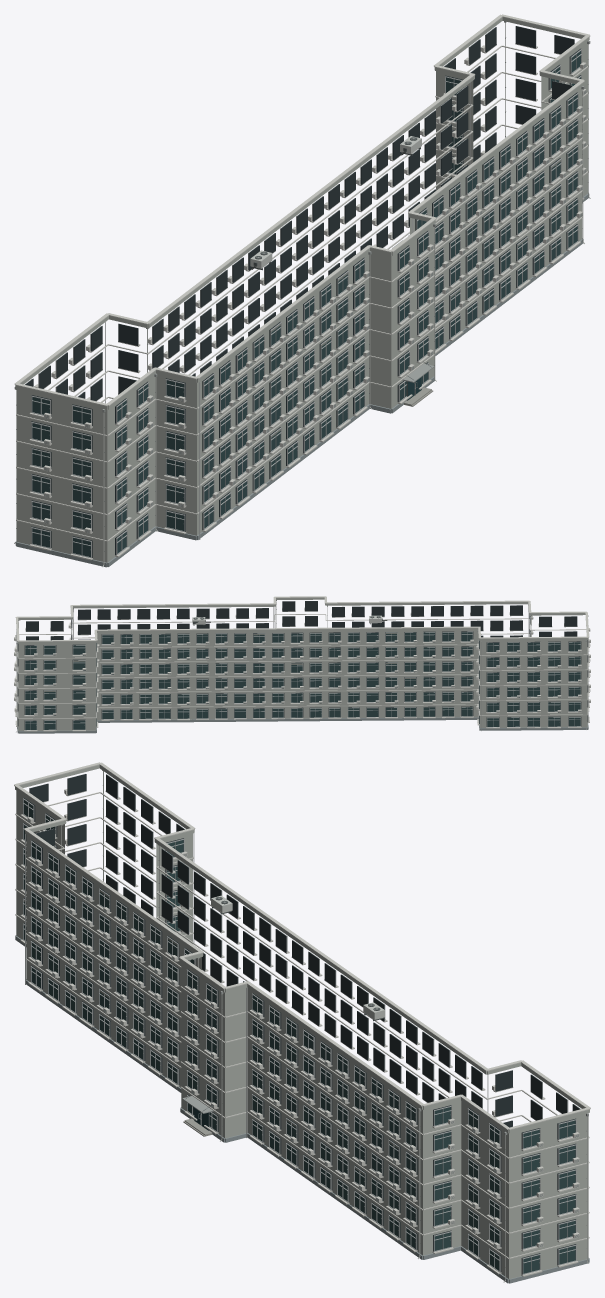
Rendered from osm_way_225198908.glb.
3 renders of one model, top to bottom at view 1: azimuth 30°, elevation 25°; view 2: azimuth 150°, elevation 25°; view 3: azimuth 270°, elevation 25°, orthographic. The views are drawn at different scales.
Parts seen in each view (by area): view 1: Windows and facade details | 22, Architecture | 22, Roof services | 22, EXTERIOR::osm_way_225198908::rainwater and roof service deta, EXTERIOR::osm_way_225198908::inferred entry doors canopy and; view 2: Windows and facade details | 22, Architecture | 22, Roof services | 22, EXTERIOR::osm_way_225198908::rainwater and roof service deta; view 3: Windows and facade details | 22, Architecture | 22, Roof services | 22, EXTERIOR::osm_way_225198908::rainwater and roof service deta, EXTERIOR::osm_way_225198908::inferred entry doors canopy and.
Part boxes in pixels (x1=…): Windows and facade details | 22: x1=25, y1=26, x2=586, y2=560; Architecture | 22: x1=15, y1=17, x2=589, y2=567; Roof services | 22: x1=14, y1=14, x2=590, y2=406; EXTERIOR::osm_way_225198908::rainwater and roof service deta: x1=14, y1=21, x2=590, y2=567; EXTERIOR::osm_way_225198908::inferred entry doors canopy and: x1=402, y1=361, x2=434, y2=406; Windows and facade details | 22: x1=14, y1=601, x2=590, y2=731; Architecture | 22: x1=17, y1=597, x2=588, y2=733; Roof services | 22: x1=15, y1=596, x2=589, y2=641; EXTERIOR::osm_way_225198908::rainwater and roof service deta: x1=16, y1=600, x2=588, y2=732; Windows and facade details | 22: x1=20, y1=774, x2=580, y2=1276; Architecture | 22: x1=15, y1=765, x2=589, y2=1283; Roof services | 22: x1=14, y1=762, x2=590, y2=1130; EXTERIOR::osm_way_225198908::rainwater and roof service deta: x1=61, y1=770, x2=588, y2=1282; EXTERIOR::osm_way_225198908::inferred entry doors canopy and: x1=182, y1=1094, x2=213, y2=1136.
Size of the model in its own units: 100 by 20.58 by 66.73.
